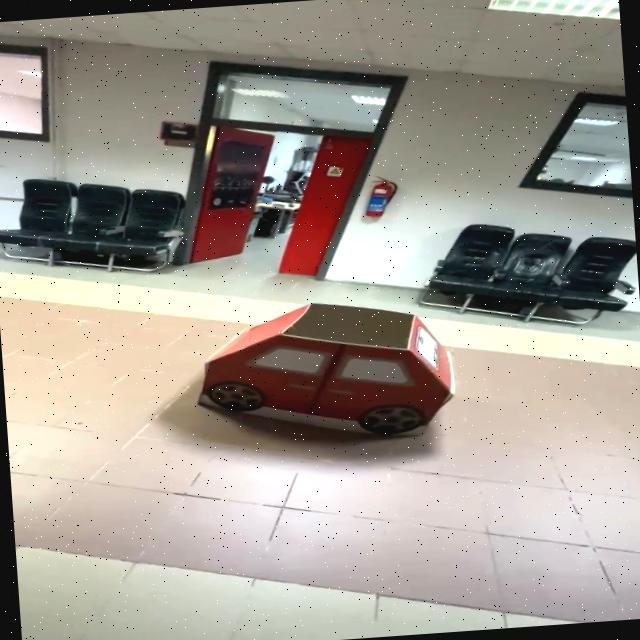red_car: (119, 282, 491, 469)
